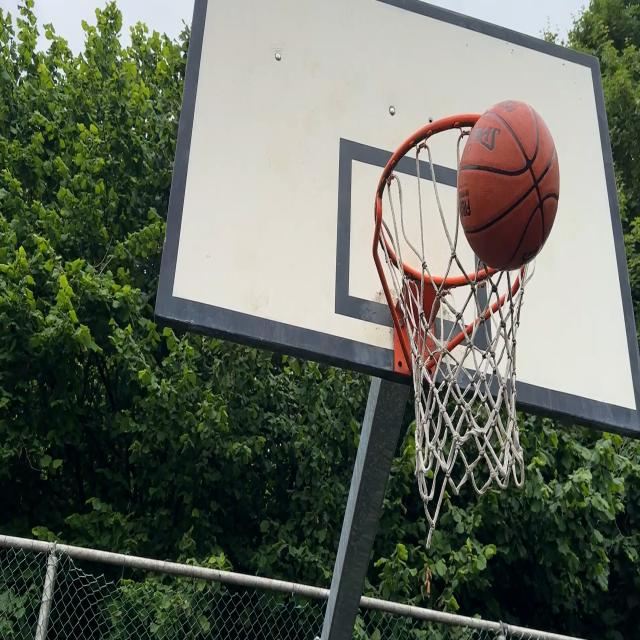Basketball: (458, 96, 560, 266)
